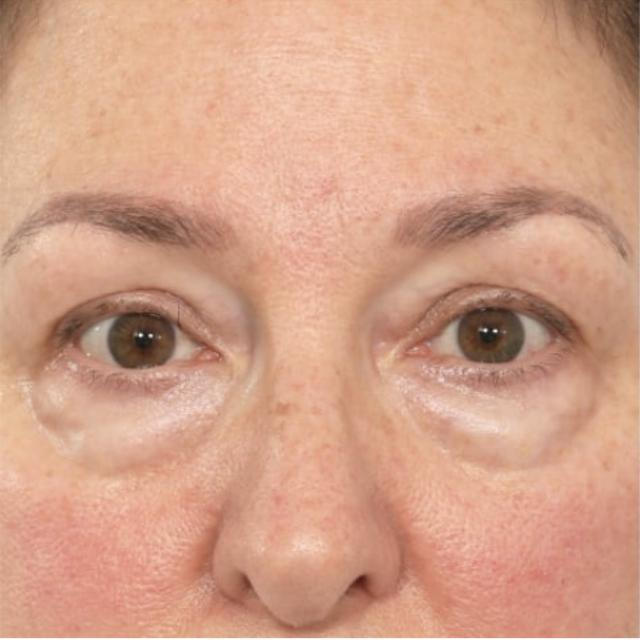eyebag: (403, 375, 629, 491), (36, 378, 250, 488)
